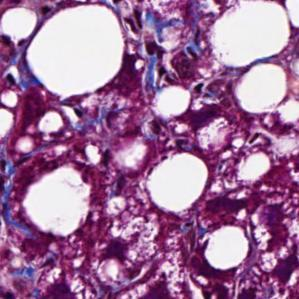inflammation: (92, 233, 148, 279), (137, 115, 188, 141)
